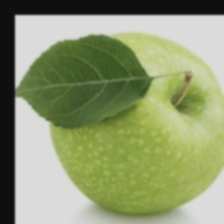apple: (56, 34, 205, 217)
